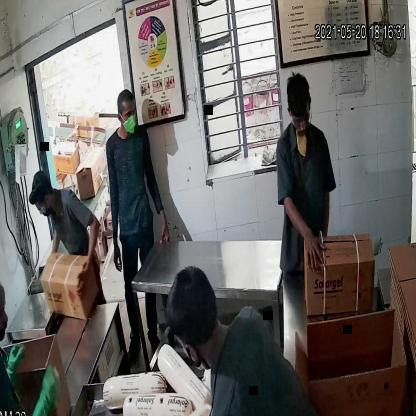goggles: (288, 100, 314, 133)
no_goggles: (118, 105, 140, 122)
